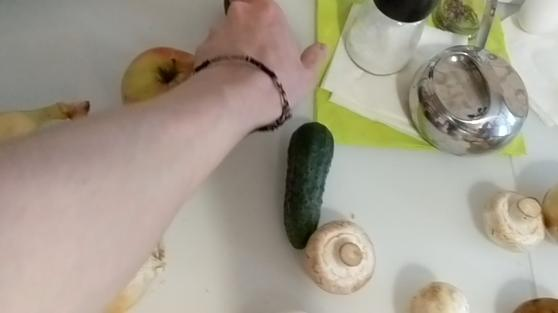apple: (120, 45, 197, 105)
banana: (6, 98, 95, 140)
champignon: (306, 218, 374, 291), (484, 185, 547, 253), (404, 280, 469, 313)
cucumber: (284, 120, 336, 248)
